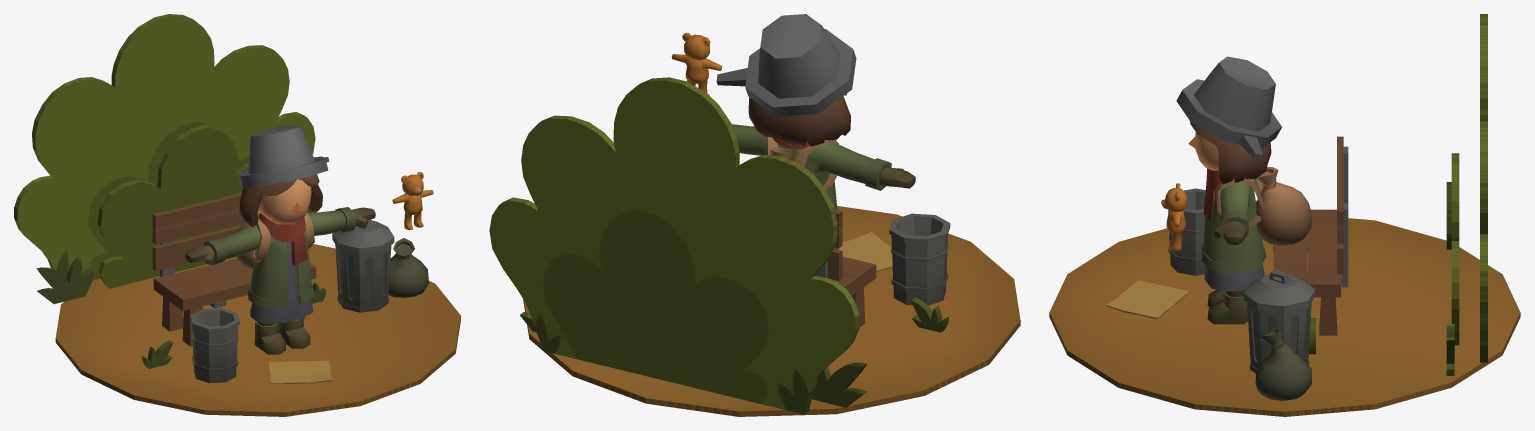
The model's file is XXXXX.fbx.
3 renders of one model, left to right at view 1: azimuth 30°, elevation 25°; view 2: azimuth 150°, elevation 25°; view 3: azimuth 270°, elevation 25°, orthographic. The views are drawn at different scales.
Visible parts, largest first — view 1: bushes, ground, body, bench, trash box, pot hat, barrel, trash, face, hair, news, teddy bear (+2 smaller); view 2: bushes, ground, pot hat, barrel, body, hair, bench, teddy bear, news, bag; view 3: ground, pot hat, body, bench, bushes, trash box, bag, trash, barrel, news, hair, teddy bear (+2 smaller).
Part boxes in pixels (bbox=[...]): bushes: bbox=[14, 14, 326, 368]; ground: bbox=[55, 244, 460, 416]; body: bbox=[185, 207, 375, 354]; bench: bbox=[152, 192, 316, 346]; trash box: bbox=[332, 220, 394, 312]; pot hat: bbox=[238, 125, 329, 187]; barrel: bbox=[190, 308, 239, 383]; trash: bbox=[388, 238, 428, 297]; face: bbox=[258, 179, 311, 224]; hair: bbox=[239, 174, 322, 226]; news: bbox=[268, 360, 331, 384]; teddy bear: bbox=[392, 172, 433, 229]; bushes: bbox=[489, 77, 949, 414]; ground: bbox=[523, 206, 1020, 416]; pot hat: bbox=[716, 14, 856, 116]; barrel: bbox=[889, 213, 950, 305]; body: bbox=[731, 123, 915, 249]; hair: bbox=[748, 93, 850, 146]; bench: bbox=[815, 209, 876, 326]; teddy bear: bbox=[671, 32, 721, 95]; news: bbox=[838, 232, 892, 272]; bag: bbox=[767, 137, 838, 189]; ground: bbox=[1049, 218, 1520, 416]; pot hat: bbox=[1176, 56, 1281, 159]; body: bbox=[1201, 182, 1266, 324]; bench: bbox=[1273, 136, 1348, 335]; bushes: bbox=[1308, 14, 1487, 375]; trash box: bbox=[1243, 269, 1315, 373]; bag: bbox=[1215, 166, 1311, 245]; trash: bbox=[1255, 327, 1311, 400]; barrel: bbox=[1168, 188, 1205, 275]; news: bbox=[1106, 280, 1189, 319]; hair: bbox=[1190, 121, 1271, 183]; teddy bear: bbox=[1161, 183, 1187, 252].
Size of the model in its own units: 480 by 328 by 480.
